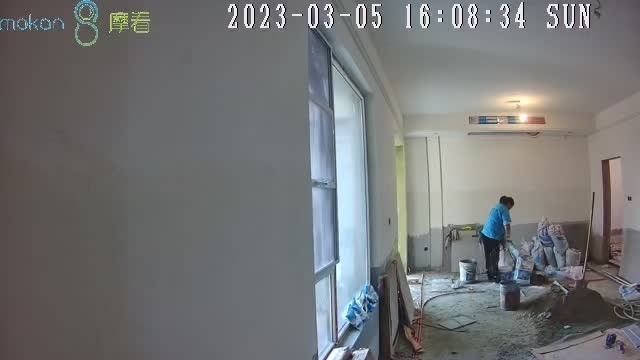people: (481, 196, 515, 281)
window: (307, 19, 375, 331)
